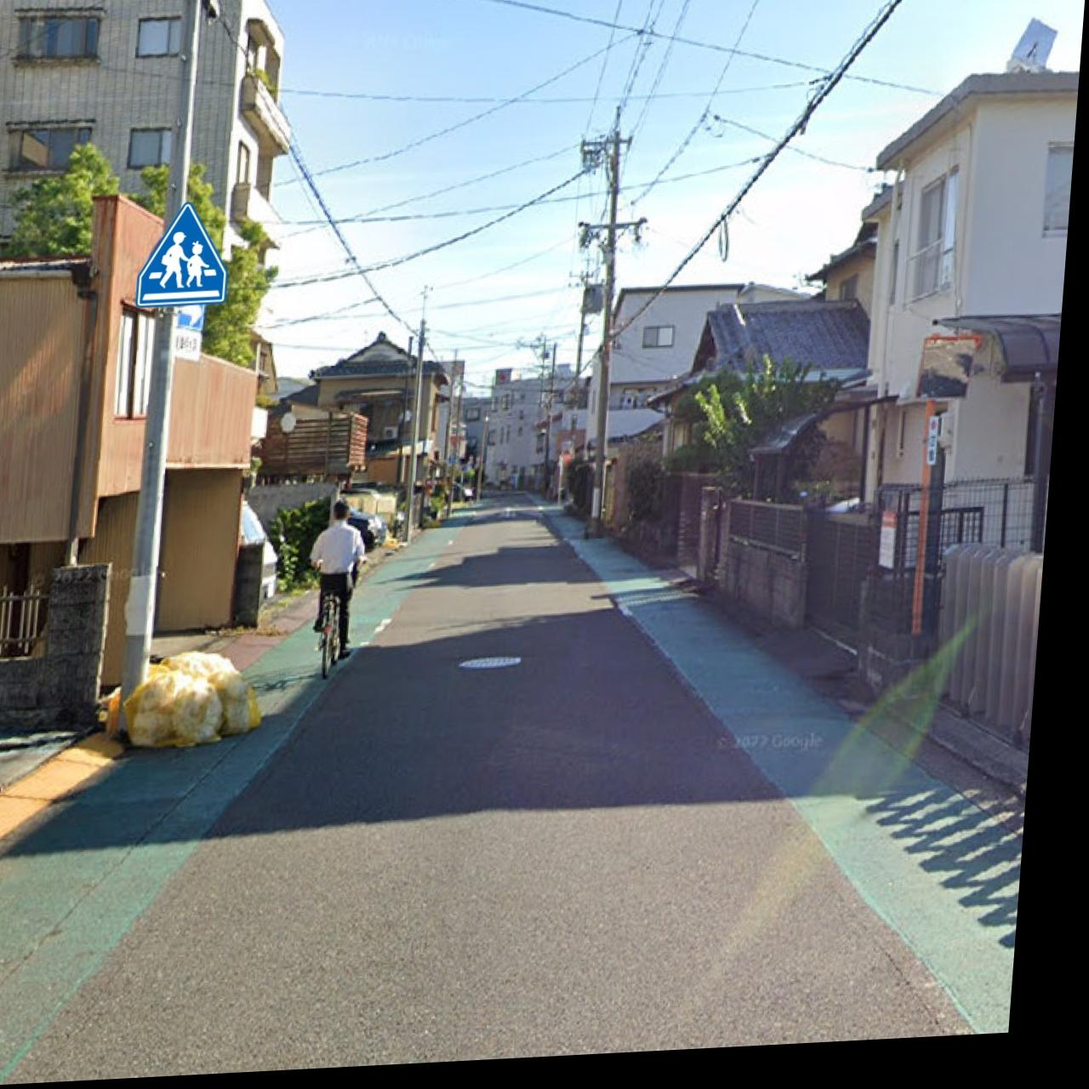cone: (68, 123, 208, 432)
